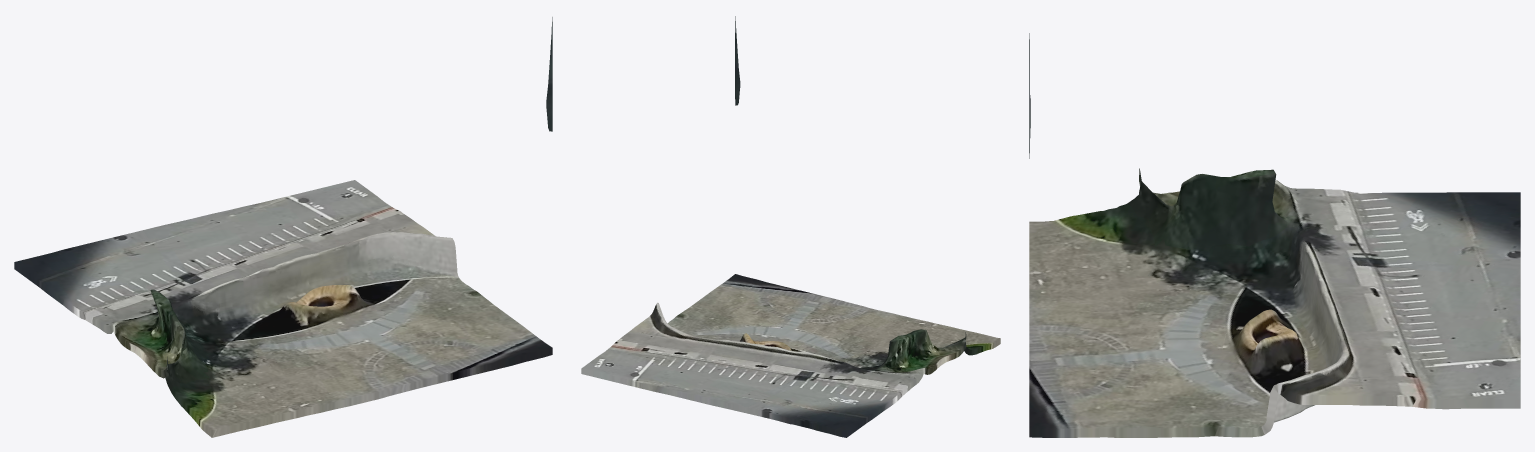
The model's file is z20-167770-405237-h0-yup-uvflip-v3-world.glb.
3 renders of one model, left to right at view 1: azimuth 30°, elevation 25°; view 2: azimuth 150°, elevation 25°; view 3: azimuth 270°, elevation 25°, orthographic. The views are drawn at different scales.
Bounding box in the file's own units: 30.16 × 29 × 30.32.
1 material, 1 textured.
